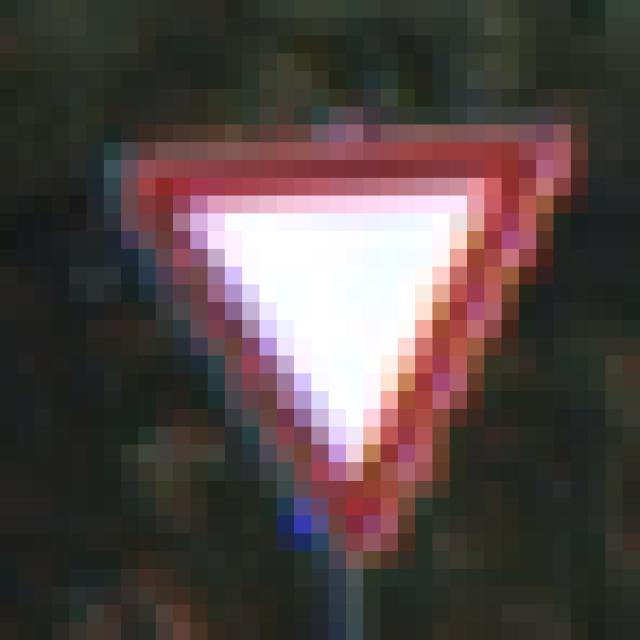Give Way: (105, 90, 554, 552)
